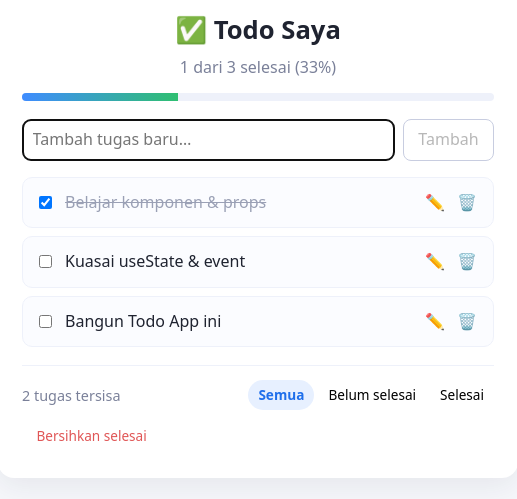
Scenario: Todo App — menandai selesai › mencentang checkbox mengubah status dan ringkasannya
Click the checkbox named "tandai selesai" next to "Kuasai useState & event".
click(46, 262)  # box [39,255,52,268]
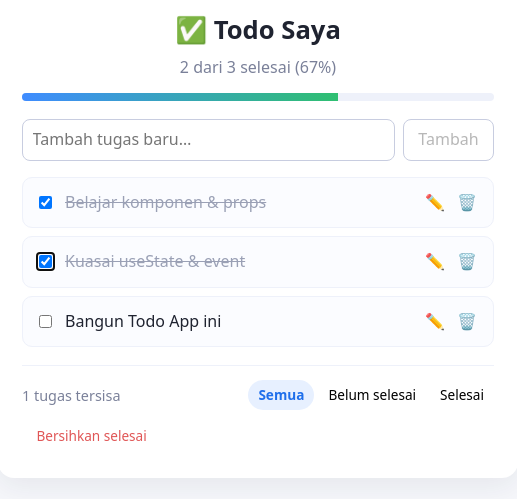
Expected: the text "2 dari 3 selesai (67%)" is shown, [180,56,336,78]
